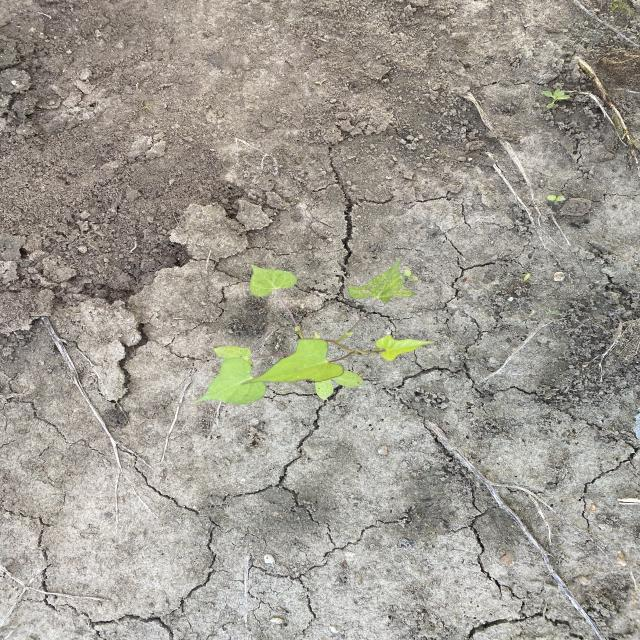MorningGlory: (192, 256, 437, 408)
